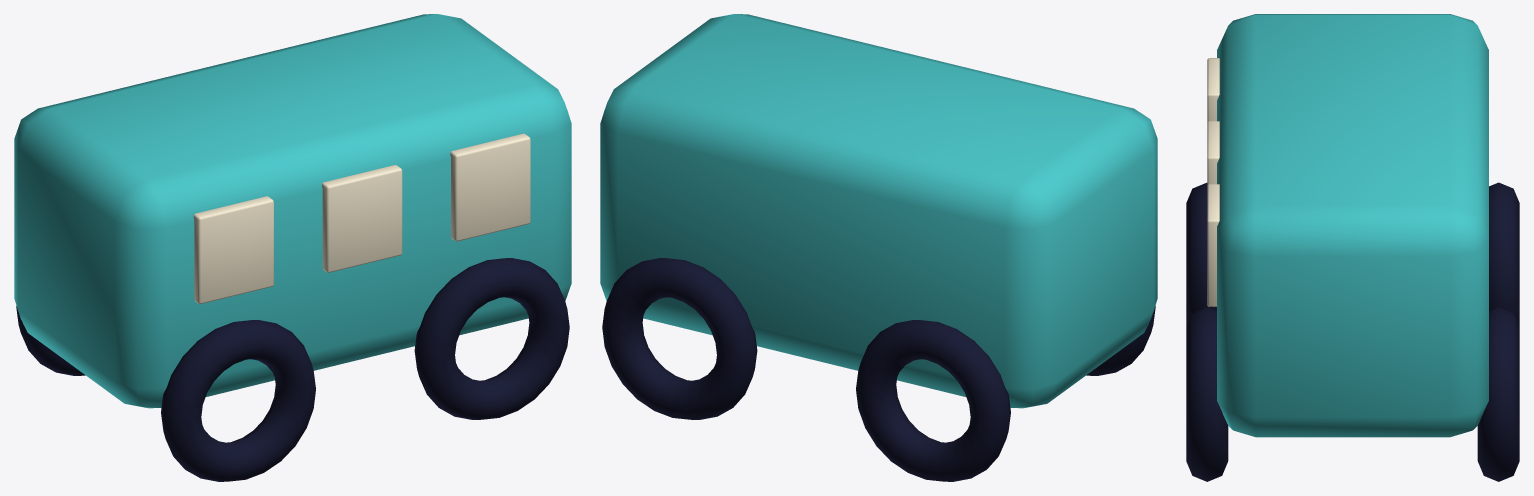
Rendered from r021_sky_lagoon_train_presentation_train_02.glb.
3 renders of one model, left to right at view 1: azimuth 30°, elevation 25°; view 2: azimuth 150°, elevation 25°; view 3: azimuth 270°, elevation 25°, orthographic.
Parts seen in each view (by area): view 1: r021_sky_lagoon_train_presentation_train_02.001; view 2: r021_sky_lagoon_train_presentation_train_02.001; view 3: r021_sky_lagoon_train_presentation_train_02.001.
Boxes of the visible parts, <box> form: r021_sky_lagoon_train_presentation_train_02.001: <box>14,14,571,481</box>; r021_sky_lagoon_train_presentation_train_02.001: <box>600,14,1157,481</box>; r021_sky_lagoon_train_presentation_train_02.001: <box>1186,14,1519,481</box>.
Bounding box in the file's own units: 3 × 1.89 × 1.9.
